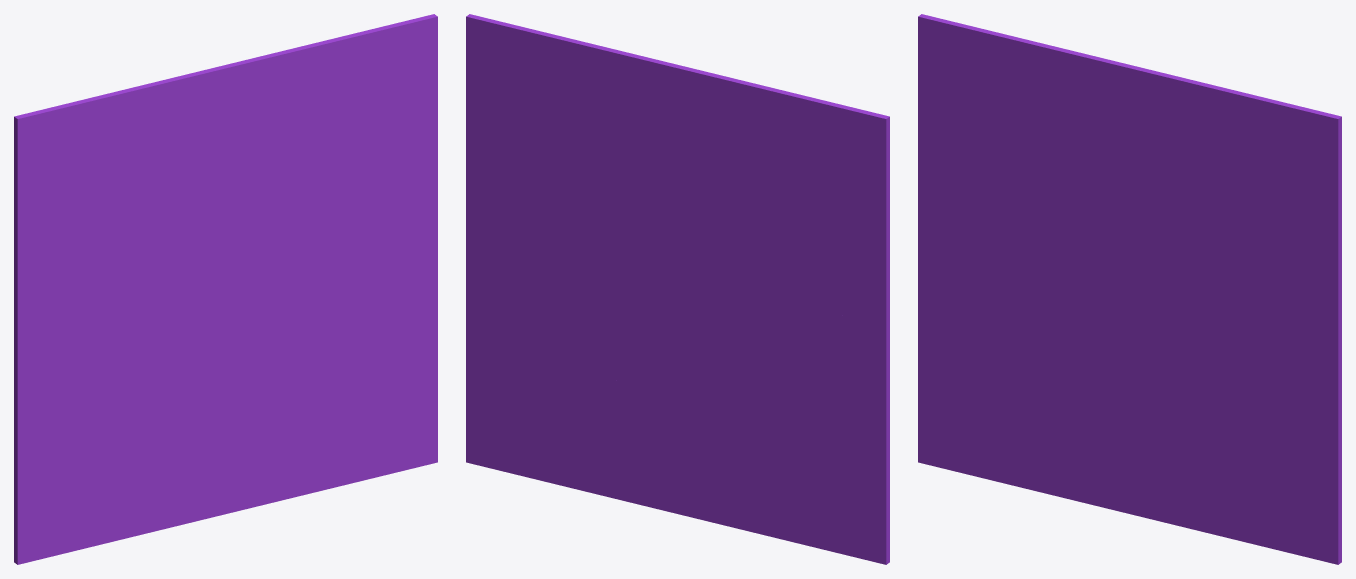
The model's file is Window_38_chunks.fbx.
3 renders of one model, left to right at view 1: azimuth 30°, elevation 25°; view 2: azimuth 150°, elevation 25°; view 3: azimuth 330°, elevation 25°, orthographic.
Visible parts, largest first — view 1: Window_38_0, Window_38_3, Window_38_5, Window_38_7, Window_38_6, Window_38_4, Window_38_12, Window_38_11, Window_38_9, Window_38_10, Window_38_8; view 2: Window_38_0, Window_38_3, Window_38_5, Window_38_7, Window_38_6, Window_38_4, Window_38_11, Window_38_9, Window_38_12, Window_38_10; view 3: Window_38_0, Window_38_3, Window_38_5, Window_38_7, Window_38_6, Window_38_4, Window_38_12, Window_38_11, Window_38_9, Window_38_10, Window_38_8.
Part boxes in pixels (<box>): Window_38_0: <box>14,291,325,564</box>; Window_38_3: <box>280,236,437,489</box>; Window_38_5: <box>288,14,437,262</box>; Window_38_7: <box>14,112,173,321</box>; Window_38_6: <box>161,95,341,300</box>; Window_38_4: <box>227,188,340,396</box>; Window_38_12: <box>31,67,229,137</box>; Window_38_11: <box>71,131,219,196</box>; Window_38_9: <box>217,28,378,122</box>; Window_38_10: <box>217,56,364,177</box>; Window_38_8: <box>136,182,190,213</box>; Window_38_0: <box>577,291,889,564</box>; Window_38_3: <box>466,236,623,489</box>; Window_38_5: <box>466,14,615,261</box>; Window_38_7: <box>730,111,889,321</box>; Window_38_6: <box>564,99,741,300</box>; Window_38_4: <box>567,189,671,395</box>; Window_38_11: <box>680,125,843,210</box>; Window_38_9: <box>524,28,689,131</box>; Window_38_12: <box>678,65,869,132</box>; Window_38_10: <box>544,66,682,177</box>; Window_38_0: <box>918,219,1225,537</box>; Window_38_3: <box>1180,318,1341,564</box>; Window_38_5: <box>1188,102,1341,338</box>; Window_38_7: <box>918,14,1073,268</box>; Window_38_6: <box>1062,151,1241,290</box>; Window_38_4: <box>1128,217,1240,422</box>; Window_38_12: <box>938,18,1129,125</box>; Window_38_11: <box>972,61,1119,178</box>; Window_38_9: <box>1124,63,1283,122</box>; Window_38_10: <box>1117,120,1264,173</box>; Window_38_8: <box>1036,137,1090,186</box>.
Size of the model in its own units: 1826 by 1851 by 27.2.
